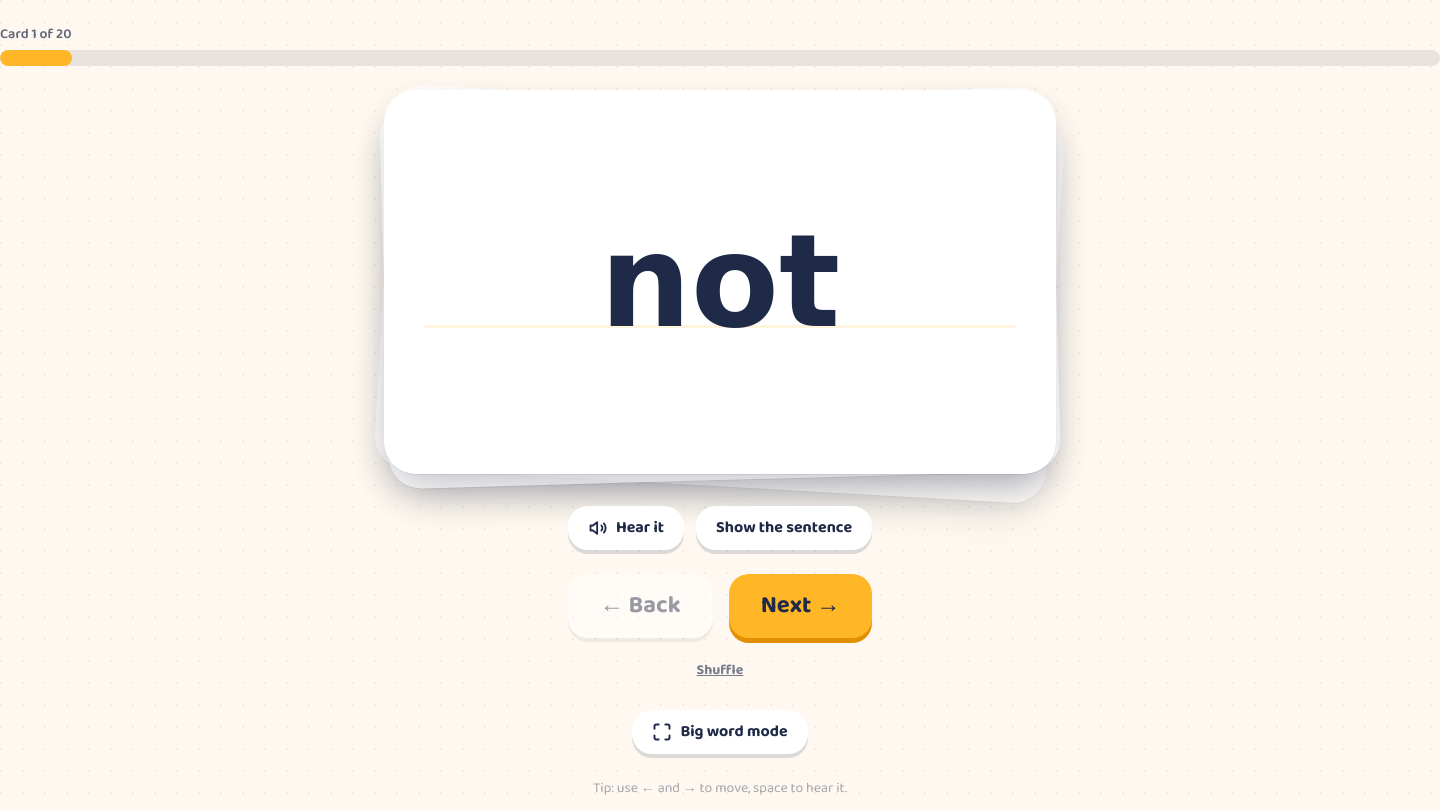
Test: English keeps the bare screen › drops the reveal toggle and the navigation buttons
Click the button "Big word mode" at (720, 732), box [632,710,808,754]
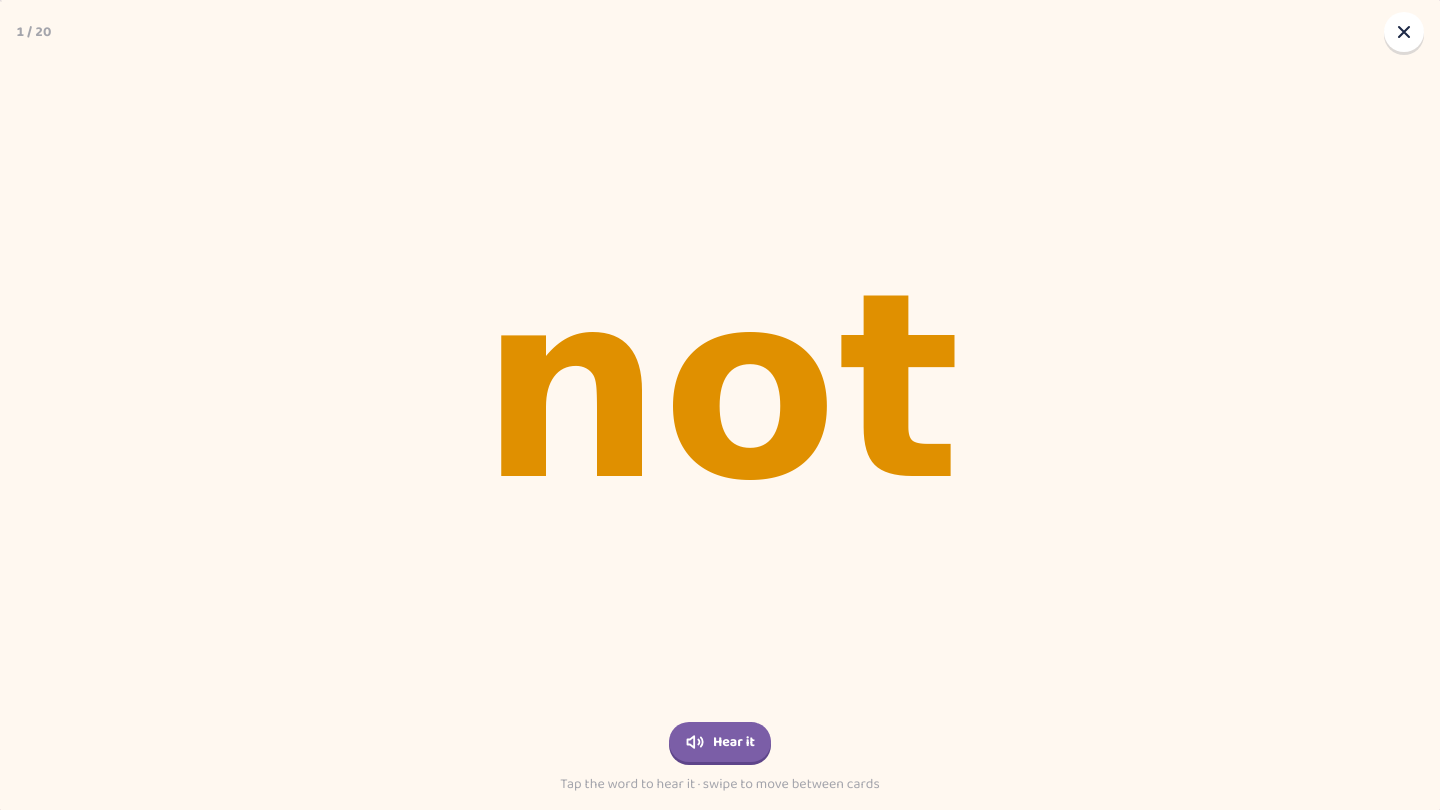
Now the button "Hear it" is shown, box [669,722,771,762]
